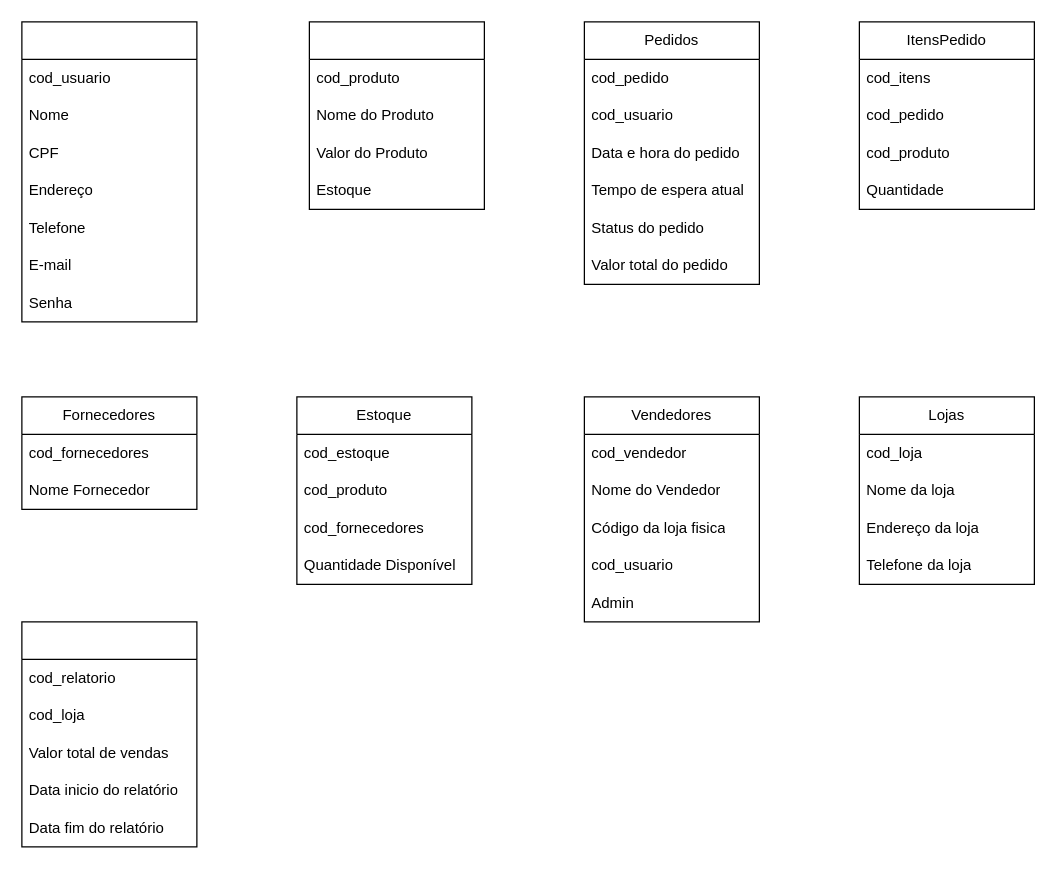
The diagram is 1056 pixels wide and 869 high, and some of its shapes have lost their labels. Here are the shapes that lost their labels. From the top down, the box of each, then its label:
(308, 21, 484, 209): Produtos
(21, 21, 197, 322): Usuarios
(21, 621, 197, 847): RelatoriosMensais
